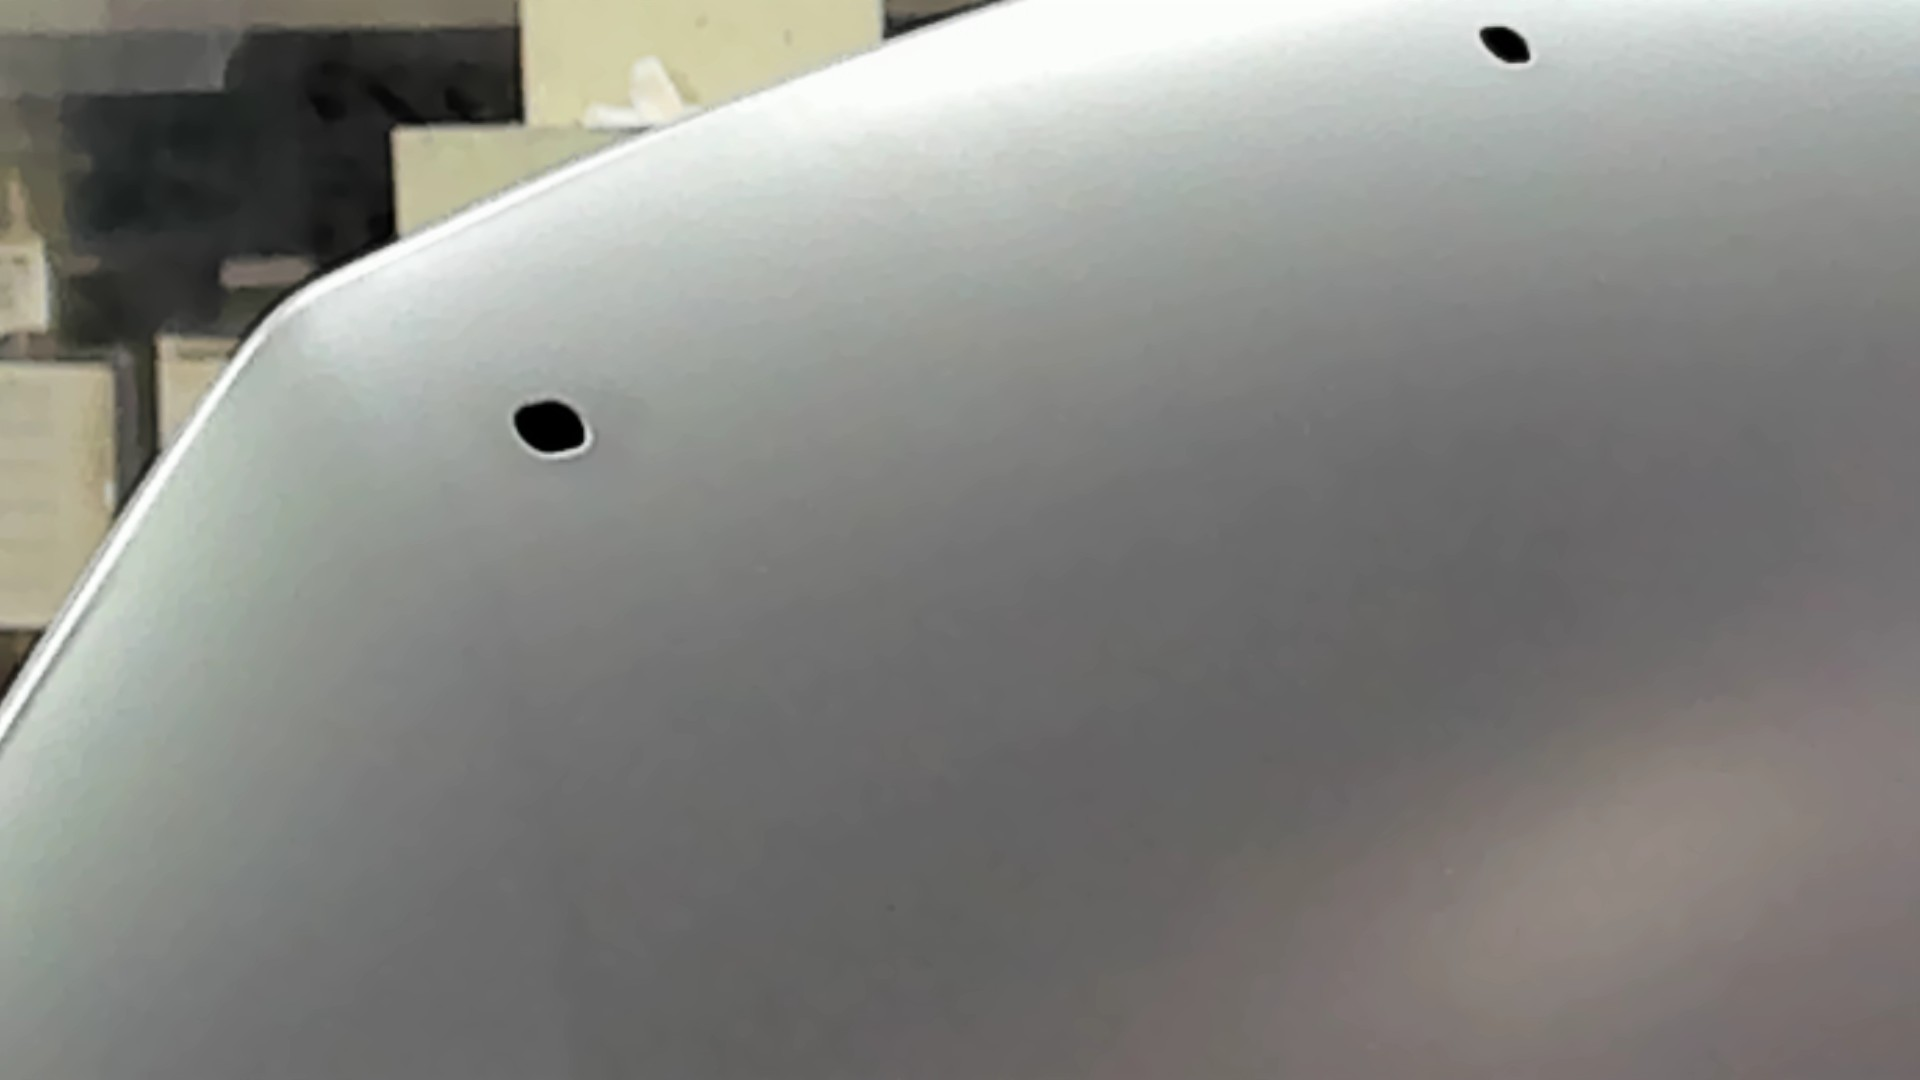amorfo: (498, 394, 605, 460), (1472, 15, 1542, 76)
capo: (721, 157, 1920, 1080)
